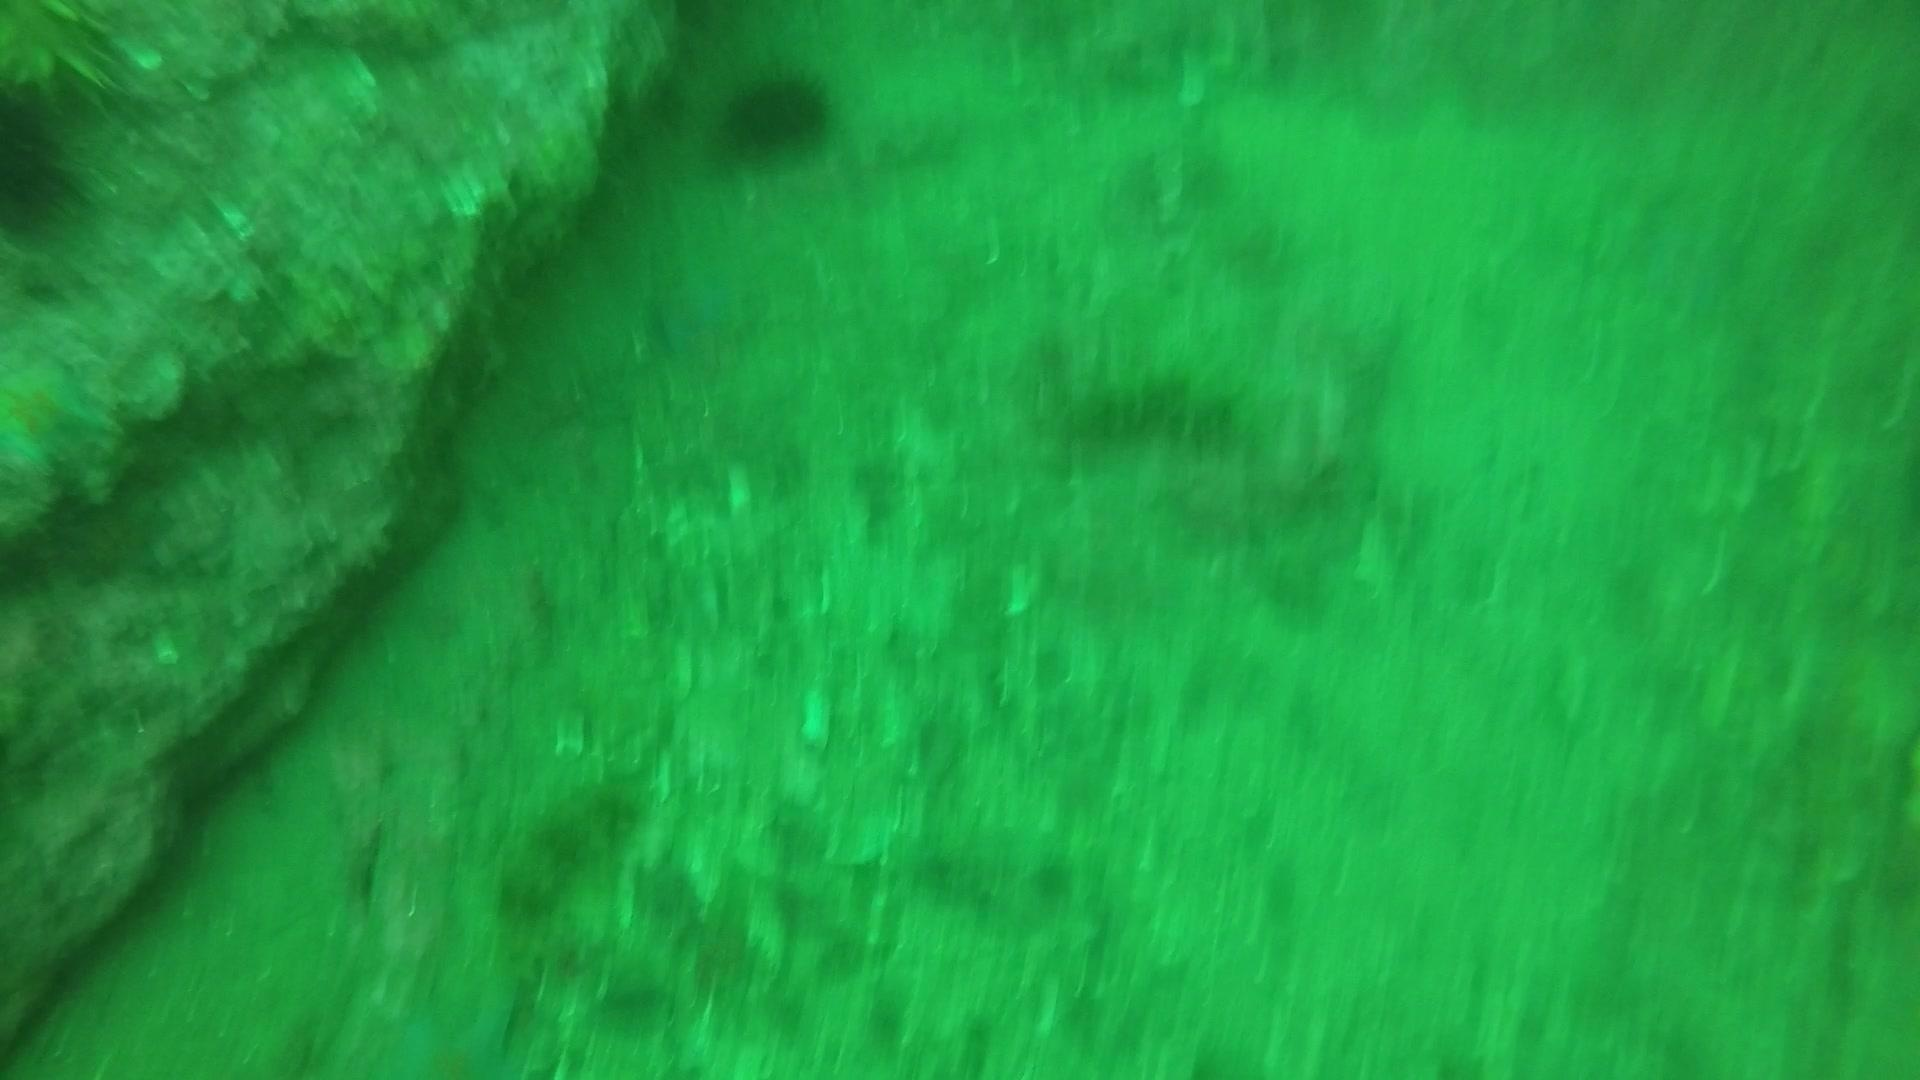echinus: (1, 59, 92, 243), (712, 62, 837, 165)
holothurian: (498, 762, 659, 927), (1040, 367, 1251, 458)
starfish: (353, 978, 531, 1076), (1, 348, 113, 483)
